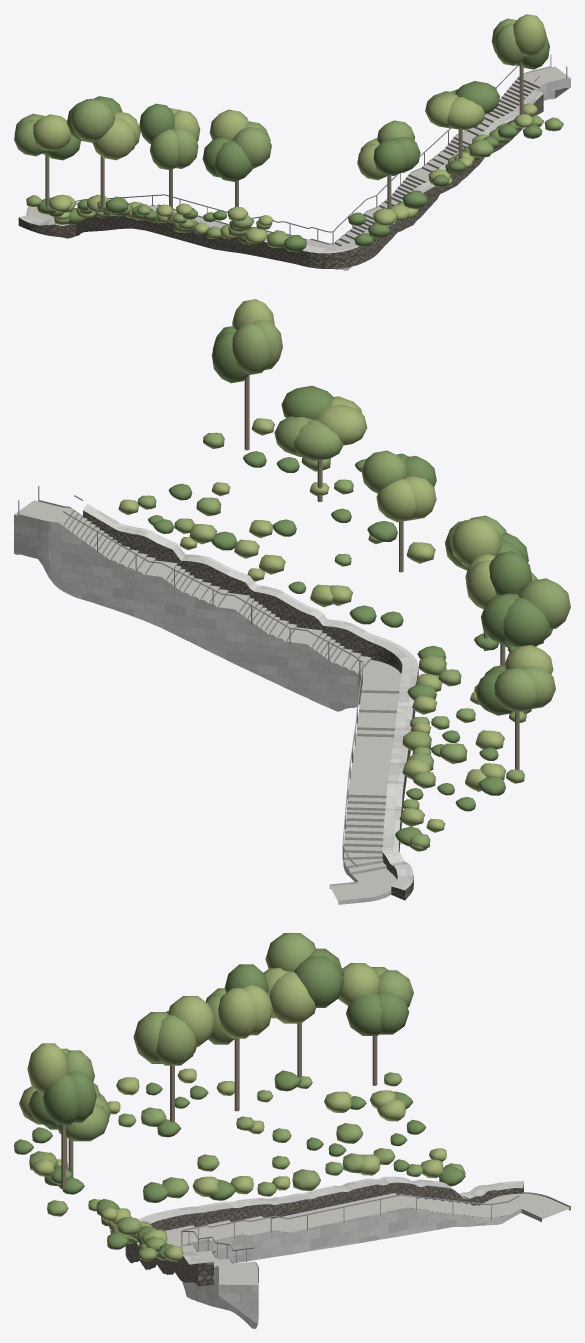
3 views of the same model, one above another, from view 1: azimuth 30°, elevation 25°; view 2: azimuth 150°, elevation 25°; view 3: azimuth 270°, elevation 25° (orthographic). The views are drawn at different scales.
Parts seen in each view (by area): view 1: west_route__mature_crown.002, west_route__mature_crown.001, west_route__mature_crown, west_route__rubble_wall, west_route__treads_and_landings, west_route__bank_shrub.002, west_route__bank_shrub, west_route__bank_shrub.001, west_route__mature_trunk, west_route__rubble_coping, west_route__retaining, west_route__railings; view 2: west_route__retaining, west_route__treads_and_landings, west_route__mature_crown.001, west_route__mature_crown, west_route__mature_crown.002, west_route__bank_shrub, west_route__rubble_coping, west_route__bank_shrub.002, west_route__bank_shrub.001, west_route__rubble_wall, west_route__railings, west_route__mature_trunk; view 3: west_route__retaining, west_route__mature_crown.002, west_route__mature_crown, west_route__treads_and_landings, west_route__mature_crown.001, west_route__bank_shrub.001, west_route__bank_shrub, west_route__rubble_wall, west_route__bank_shrub.002, west_route__rubble_coping, west_route__mature_trunk, west_route__railings.
Part boxes in pixels (x1=…): west_route__mature_crown.002: x1=33, y1=14, x2=546, y2=180; west_route__mature_crown.001: x1=14, y1=18, x2=525, y2=170; west_route__mature_crown: x1=42, y1=35, x2=549, y2=181; west_route__rubble_wall: x1=18, y1=94, x2=543, y2=268; west_route__treads_and_landings: x1=27, y1=66, x2=570, y2=247; west_route__bank_shrub.002: x1=37, y1=121, x2=542, y2=252; west_route__bank_shrub: x1=49, y1=103, x2=537, y2=243; west_route__bank_shrub.001: x1=26, y1=115, x2=563, y2=247; west_route__mature_trunk: x1=45, y1=63, x2=523, y2=225; west_route__rubble_coping: x1=19, y1=89, x2=543, y2=253; west_route__retaining: x1=26, y1=66, x2=570, y2=270; west_route__railings: x1=75, y1=55, x2=567, y2=244; west_route__retaining: x1=14, y1=500, x2=391, y2=904; west_route__treads_and_landings: x1=14, y1=500, x2=401, y2=901; west_route__mature_crown.001: x1=232, y1=319, x2=570, y2=712; west_route__mature_crown: x1=211, y1=326, x2=550, y2=715; west_route__mature_crown.002: x1=232, y1=299, x2=553, y2=674; west_route__bank_shrub: x1=118, y1=418, x2=544, y2=832; west_route__rubble_coping: x1=83, y1=504, x2=418, y2=889; west_route__bank_shrub.002: x1=148, y1=451, x2=531, y2=846; west_route__bank_shrub.001: x1=137, y1=432, x2=525, y2=851; west_route__rubble_wall: x1=83, y1=510, x2=418, y2=900; west_route__railings: x1=18, y1=486, x2=363, y2=866; west_route__mature_trunk: x1=244, y1=375, x2=526, y2=769; west_route__retaining: x1=182, y1=1192, x2=570, y2=1328; west_route__mature_crown.002: x1=19, y1=963, x2=379, y2=1124; west_route__mature_crown: x1=28, y1=948, x2=409, y2=1129; west_route__treads_and_landings: x1=165, y1=1193, x2=570, y2=1284; west_route__mature_crown.001: x1=57, y1=933, x2=413, y2=1141; west_route__bank_shrub.001: x1=29, y1=1072, x2=465, y2=1261; west_route__bank_shrub: x1=32, y1=1068, x2=446, y2=1261; west_route__rubble_wall: x1=125, y1=1182, x2=523, y2=1285; west_route__bank_shrub.002: x1=14, y1=1070, x2=465, y2=1258; west_route__rubble_coping: x1=137, y1=1176, x2=523, y2=1264; west_route__mature_trunk: x1=61, y1=1023, x2=377, y2=1189; west_route__railings: x1=181, y1=1194, x2=519, y2=1282.
Size of the model in its own units: 38.55 by 20.78 by 30.78.
8 materials, 2 textured.
